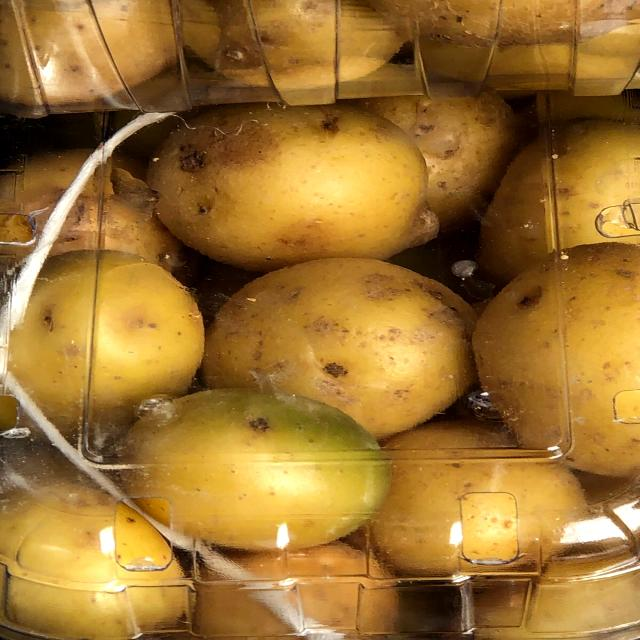potato: (140, 93, 444, 274), (192, 250, 493, 424)
